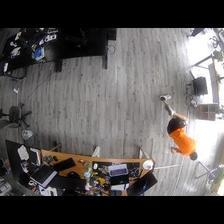fall: (160, 96, 199, 160)
